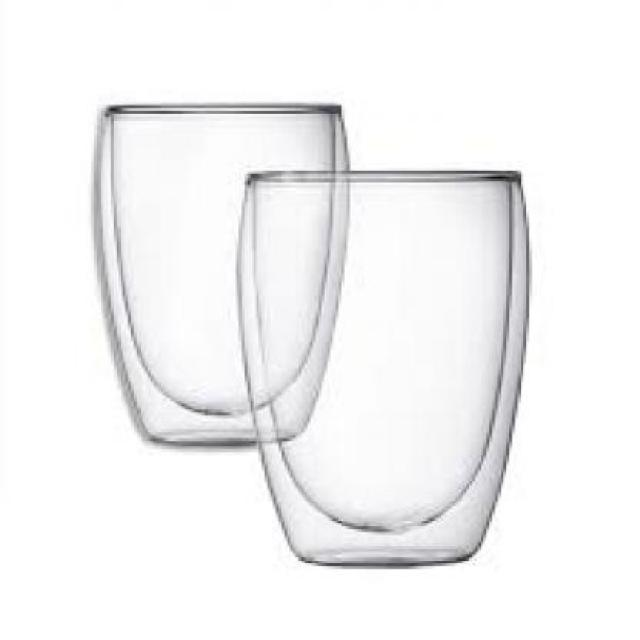kaca: (231, 168, 526, 563), (90, 103, 344, 446)
